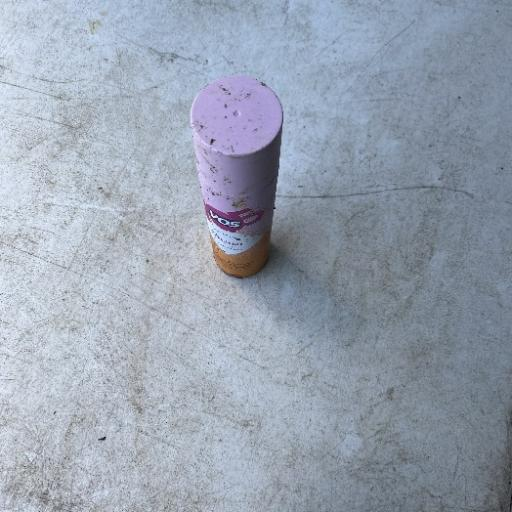Metal: (187, 74, 285, 280)
